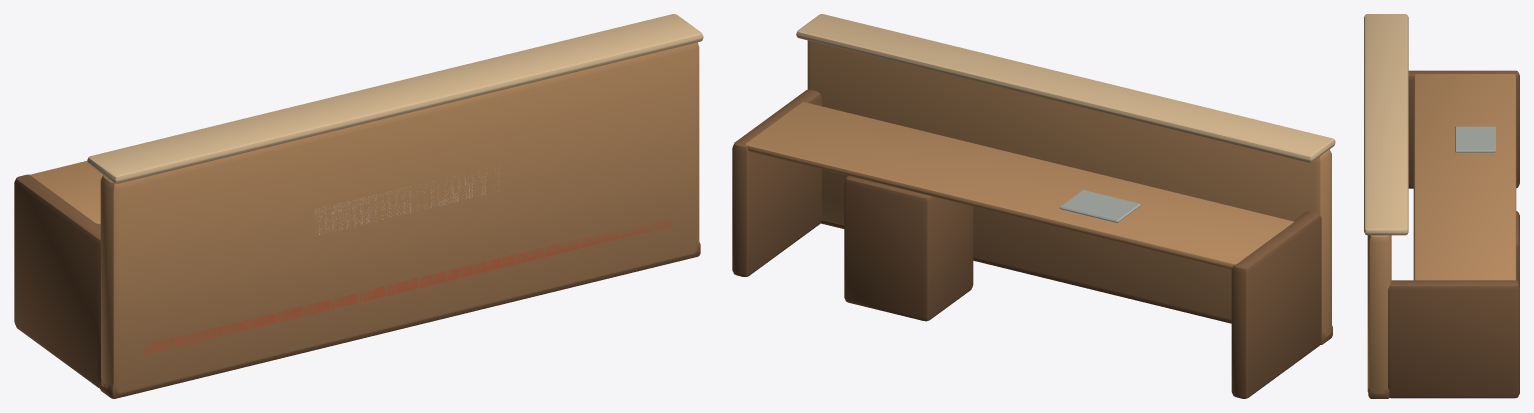
File: reception_desk.glb
3 views of the same model, side by side, from view 1: azimuth 30°, elevation 25°; view 2: azimuth 150°, elevation 25°; view 3: azimuth 270°, elevation 25° (orthographic). The views are drawn at different scales.
Visible parts, largest first — view 1: FURN-reception_desk; view 2: FURN-reception_desk; view 3: FURN-reception_desk.
Boxes of the visible parts, box(x1,y1,x2,y2) form: FURN-reception_desk: box(14, 14, 703, 398); FURN-reception_desk: box(732, 14, 1335, 398); FURN-reception_desk: box(1364, 14, 1519, 398).
Size of the model in its own units: 3 by 1.1 by 0.91.
